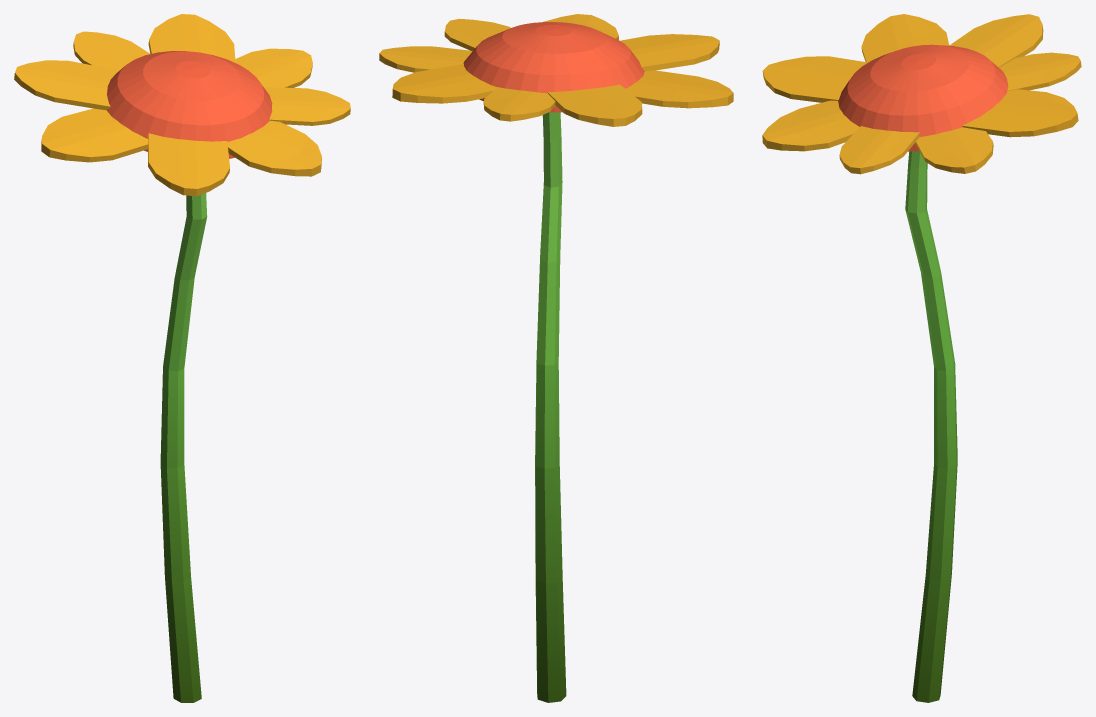
Rendered from Flower_9.fbx.
3 views of the same model, side by side, from view 1: azimuth 30°, elevation 25°; view 2: azimuth 150°, elevation 25°; view 3: azimuth 270°, elevation 25° (orthographic). The views are drawn at different scales.
Parts seen in each view (by area): view 1: Flower 9; view 2: Flower 9; view 3: Flower 9.
Part boxes in pixels (bbox=[...]): Flower 9: bbox=[14, 14, 350, 702]; Flower 9: bbox=[379, 14, 733, 702]; Flower 9: bbox=[762, 14, 1081, 702].
Bounding box in the file's own units: 26.85 × 54.22 × 24.59.
